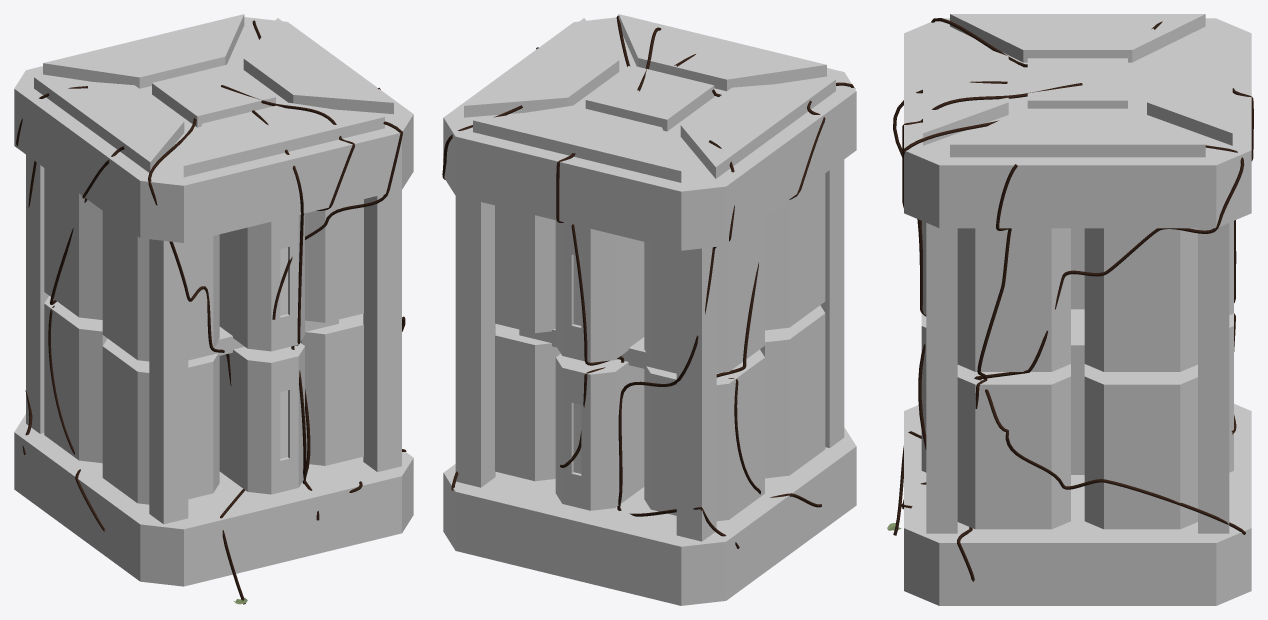
The model's file is vine 1.fbx.
The picture shows the model from 3 angles, left to right: view 1: azimuth 30°, elevation 25°; view 2: azimuth 150°, elevation 25°; view 3: azimuth 270°, elevation 25°; orthographic projection. The views are drawn at different scales.
Visible parts, largest first — view 1: battery, vine; view 2: battery, vine; view 3: battery, vine.
Part boxes in pixels (left/top/right/bottom): battery: left=14, top=14, right=413, bottom=586; vine: left=16, top=20, right=406, bottom=604; battery: left=443, top=14, right=856, bottom=605; vine: left=442, top=15, right=855, bottom=548; battery: left=904, top=14, right=1251, bottom=605; vine: left=893, top=18, right=1253, bottom=581.
Size of the model in its own units: 218 by 312 by 212.
4 materials, 1 textured.
